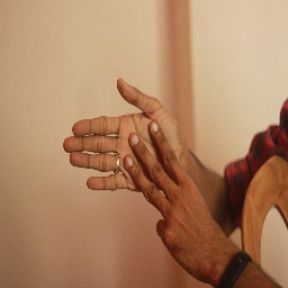M: (64, 73, 184, 218)
